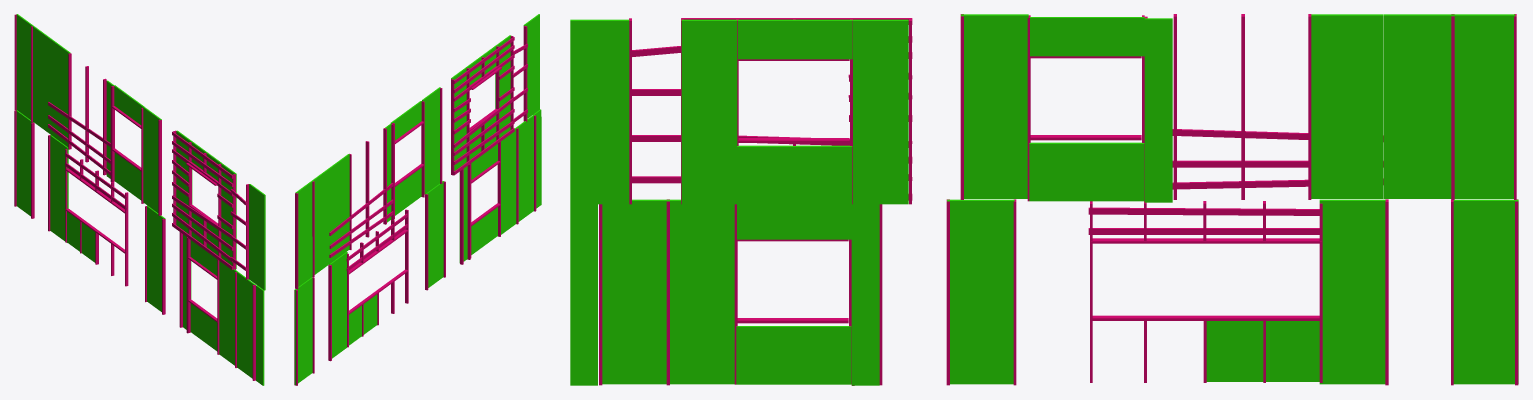
Rendered from BH07B_Wall_02_Break_B.fbx.
3 renders of one model, left to right at view 1: azimuth 30°, elevation 25°; view 2: azimuth 150°, elevation 25°; view 3: azimuth 270°, elevation 25°, orthographic. The views are drawn at different scales.
Visible parts, largest first — view 1: BH07B_Wall_02_Break_B; view 2: BH07B_Wall_02_Break_B; view 3: BH07B_Wall_02_Break_B.
Part boxes in pixels (bbox=[...]): BH07B_Wall_02_Break_B: bbox=[14, 14, 265, 385]; BH07B_Wall_02_Break_B: bbox=[294, 14, 541, 385]; BH07B_Wall_02_Break_B: bbox=[570, 14, 1518, 385].
Size of the model in its own units: 23.01 by 606 by 1408.
